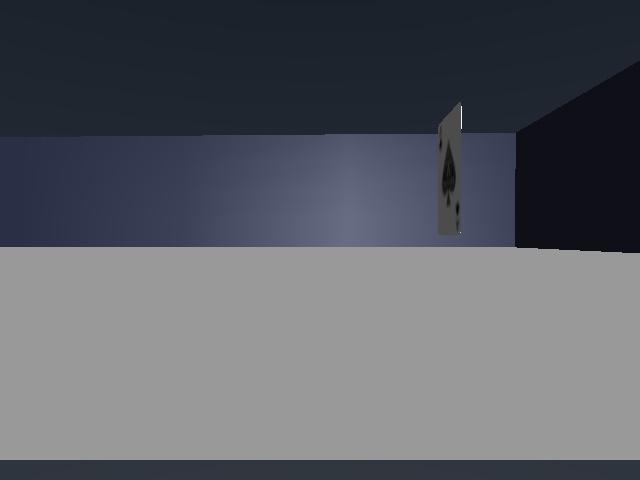club: (438, 103, 461, 234)
